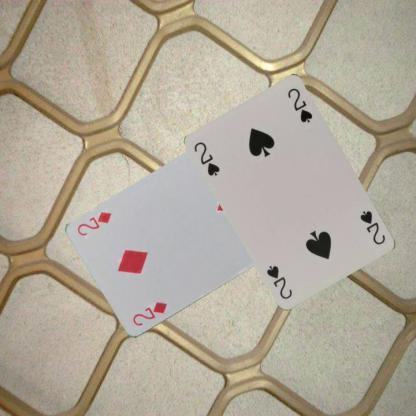2d: (129, 299, 169, 328)
2s: (357, 208, 387, 246), (192, 140, 222, 178)
